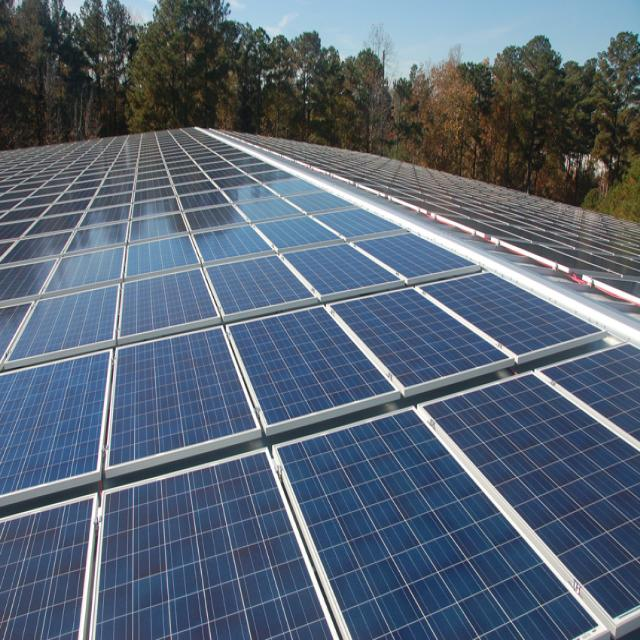clean: (6, 127, 640, 639)
